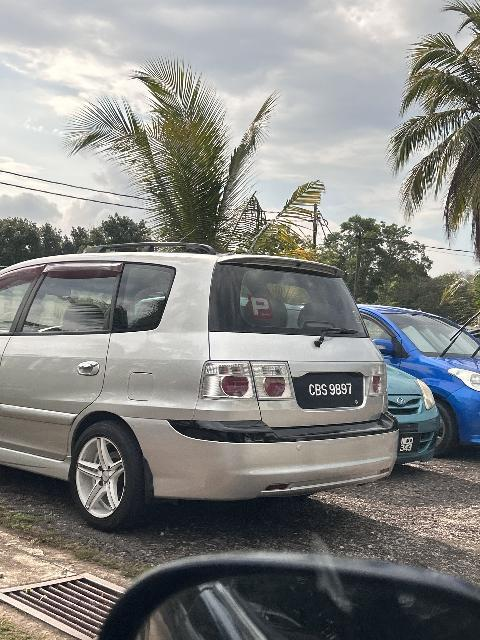CBS9897: (300, 376, 362, 406)
License_Plate: (300, 376, 362, 406), (397, 430, 423, 456)
car: (1, 249, 407, 531)
